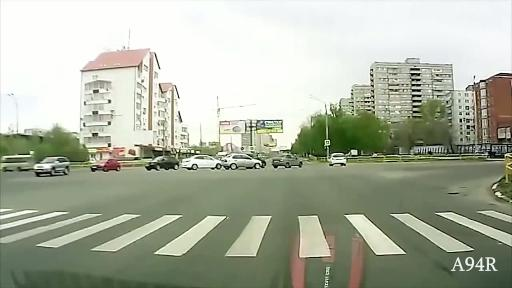CAR: (222, 150, 264, 174), (180, 151, 221, 174), (33, 157, 74, 179), (143, 153, 181, 176), (272, 149, 305, 173), (89, 157, 122, 175), (329, 150, 350, 170)
